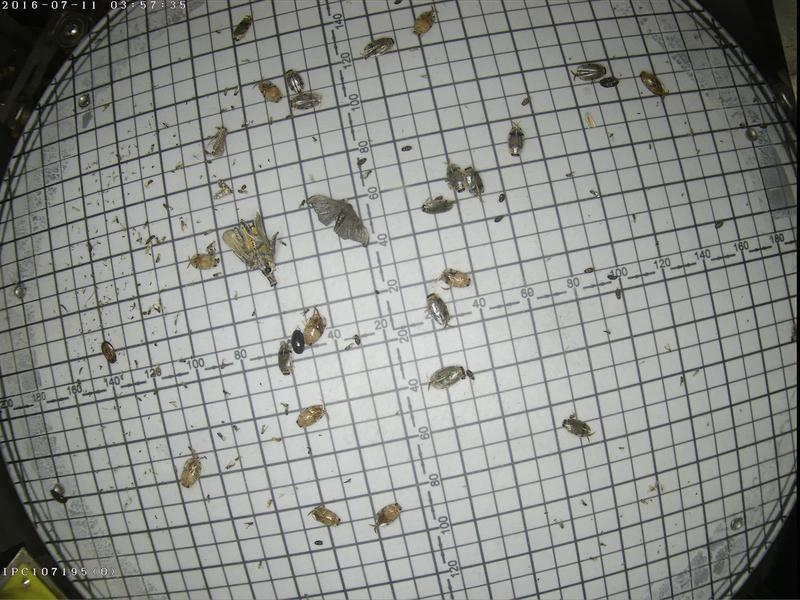Spodoptera exigua: (208, 121, 227, 157)
